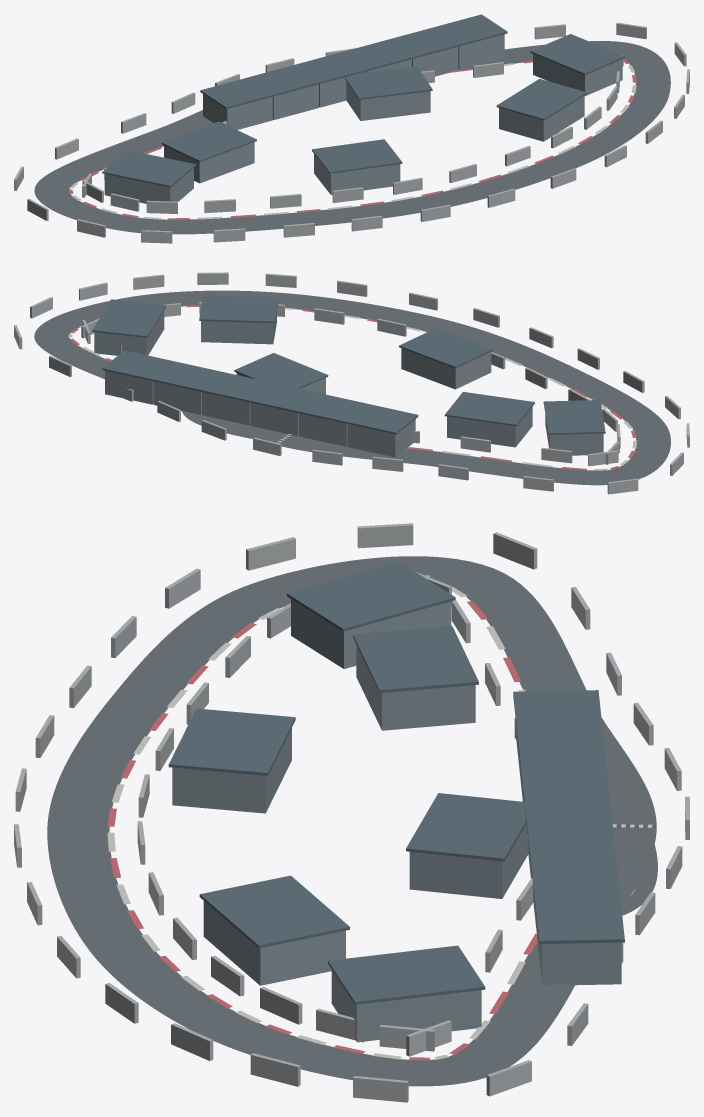
3 views of the same model, one above another, from view 1: azimuth 30°, elevation 25°; view 2: azimuth 150°, elevation 25°; view 3: azimuth 270°, elevation 25° (orthographic). The views are drawn at different scales.
Visible parts, largest first — view 1: asphalt, grandstand_roof_1, grandstand_roof_4, grandstand_roof_5, grandstand_roof_3, grandstand_roof_2, grandstand_roof_0, grandstand_2, grandstand_0, grandstand_1, grandstand_3, grandstand_4 (+29 smaller); view 2: asphalt, grandstand_roof_3, grandstand_roof_5, grandstand_roof_2, grandstand_roof_1, grandstand_roof_4, grandstand_3, grandstand_roof_0, grandstand_5, grandstand_2, pit_building_0, grandstand_1 (+31 smaller); view 3: asphalt, grandstand_roof_4, grandstand_roof_1, grandstand_roof_2, grandstand_roof_3, grandstand_roof_5, grandstand_roof_0, grandstand_2, grandstand_1, grandstand_3, grandstand_5, grandstand_0 (+20 smaller).
Boxes of the visible parts, box(x1,y1,x2,y2) form: asphalt: box(34, 41, 670, 234); grandstand_roof_1: box(530, 34, 624, 74); grandstand_roof_4: box(102, 150, 196, 187); grandstand_roof_5: box(161, 121, 256, 162); grandstand_roof_3: box(312, 139, 402, 173); grandstand_roof_2: box(496, 79, 586, 120); grandstand_roof_0: box(345, 66, 432, 99); grandstand_2: box(499, 95, 584, 141); grandstand_0: box(346, 81, 430, 120); grandstand_1: box(533, 54, 622, 96); grandstand_3: box(314, 154, 400, 194); grandstand_4: box(104, 168, 193, 203); asphalt: box(34, 290, 670, 485); grandstand_roof_3: box(399, 328, 493, 368); grandstand_roof_5: box(444, 392, 534, 426); grandstand_roof_2: box(199, 295, 278, 323); grandstand_roof_1: box(92, 299, 166, 337); grandstand_roof_4: box(543, 400, 605, 434); grandstand_3: box(401, 348, 491, 389); grandstand_roof_0: box(234, 353, 328, 388); grandstand_5: box(447, 407, 532, 447); grandstand_2: box(201, 311, 276, 344); pit_building_0: box(347, 419, 415, 457); grandstand_1: box(94, 310, 164, 355); asphalt: box(47, 556, 656, 1086); grandstand_roof_4: box(287, 562, 455, 631); grandstand_roof_1: box(328, 945, 485, 1004); grandstand_roof_2: box(199, 875, 349, 948); grandstand_roof_3: box(168, 708, 295, 775); grandstand_roof_5: box(353, 626, 478, 692); grandstand_roof_0: box(406, 793, 526, 861); grandstand_2: box(203, 901, 345, 985); grandstand_1: box(331, 970, 481, 1042); grandstand_3: box(172, 728, 291, 813); grandstand_5: box(356, 645, 475, 730); grandstand_0: box(409, 824, 528, 898).
Bounding box in the file's own units: 66.63 × 2.64 × 34.01.
